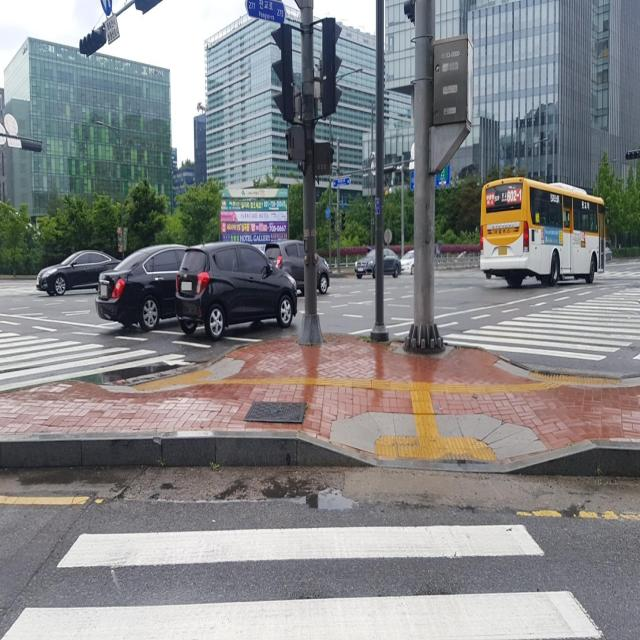횡단보도: (4, 520, 605, 636), (441, 287, 640, 361), (0, 325, 186, 395)
